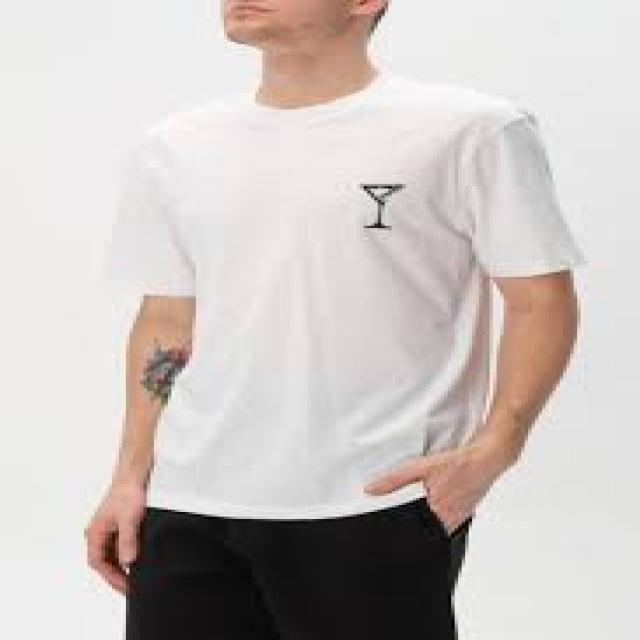Shirt: (76, 90, 578, 538)
